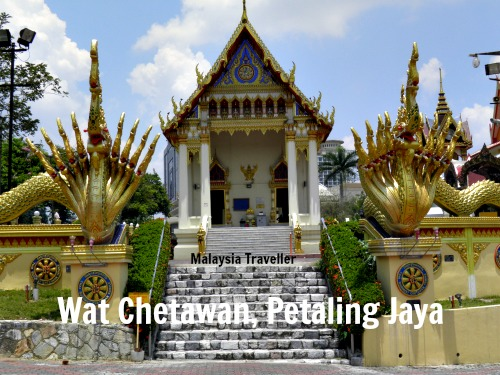Buddhist Temple: (154, 19, 328, 234)
